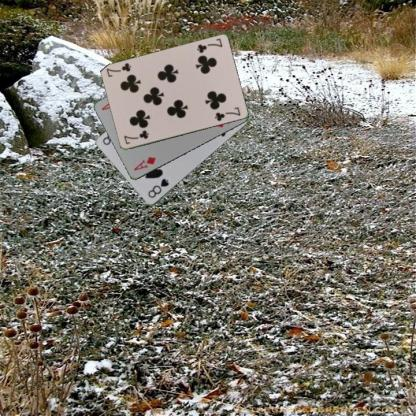7c: (194, 36, 224, 54), (122, 128, 150, 146)
8s: (145, 176, 170, 200)
Ad: (131, 154, 157, 172)
